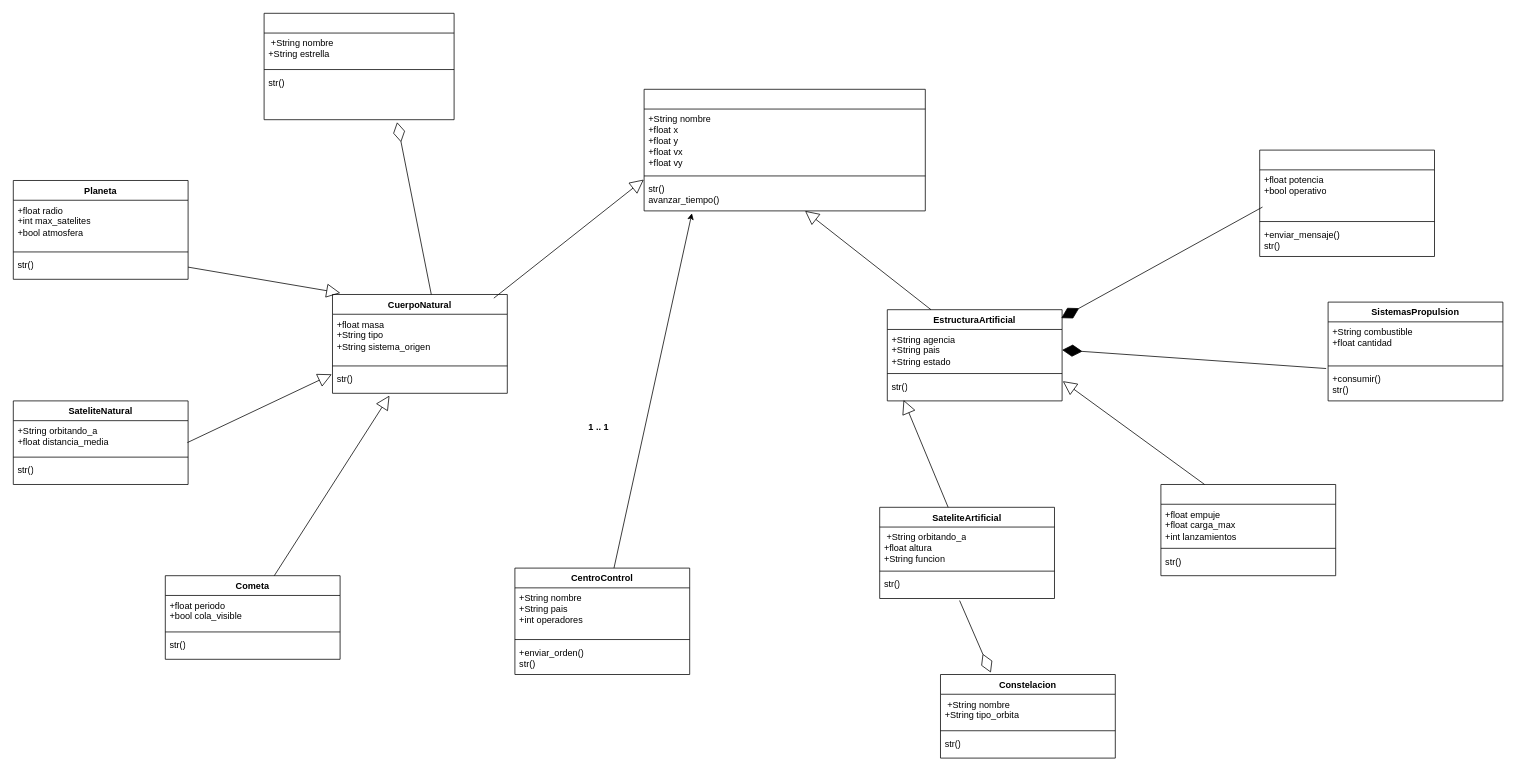
This 1516x774 diagram has some shape labels left out. Each missing label, with the box of its shape:
Cohete: (1160, 484, 1336, 576)
ObjetoEspacial: (643, 89, 925, 211)
SistemaPlanetario: (263, 13, 454, 120)
SistemasComunicacion: (1259, 149, 1434, 256)
